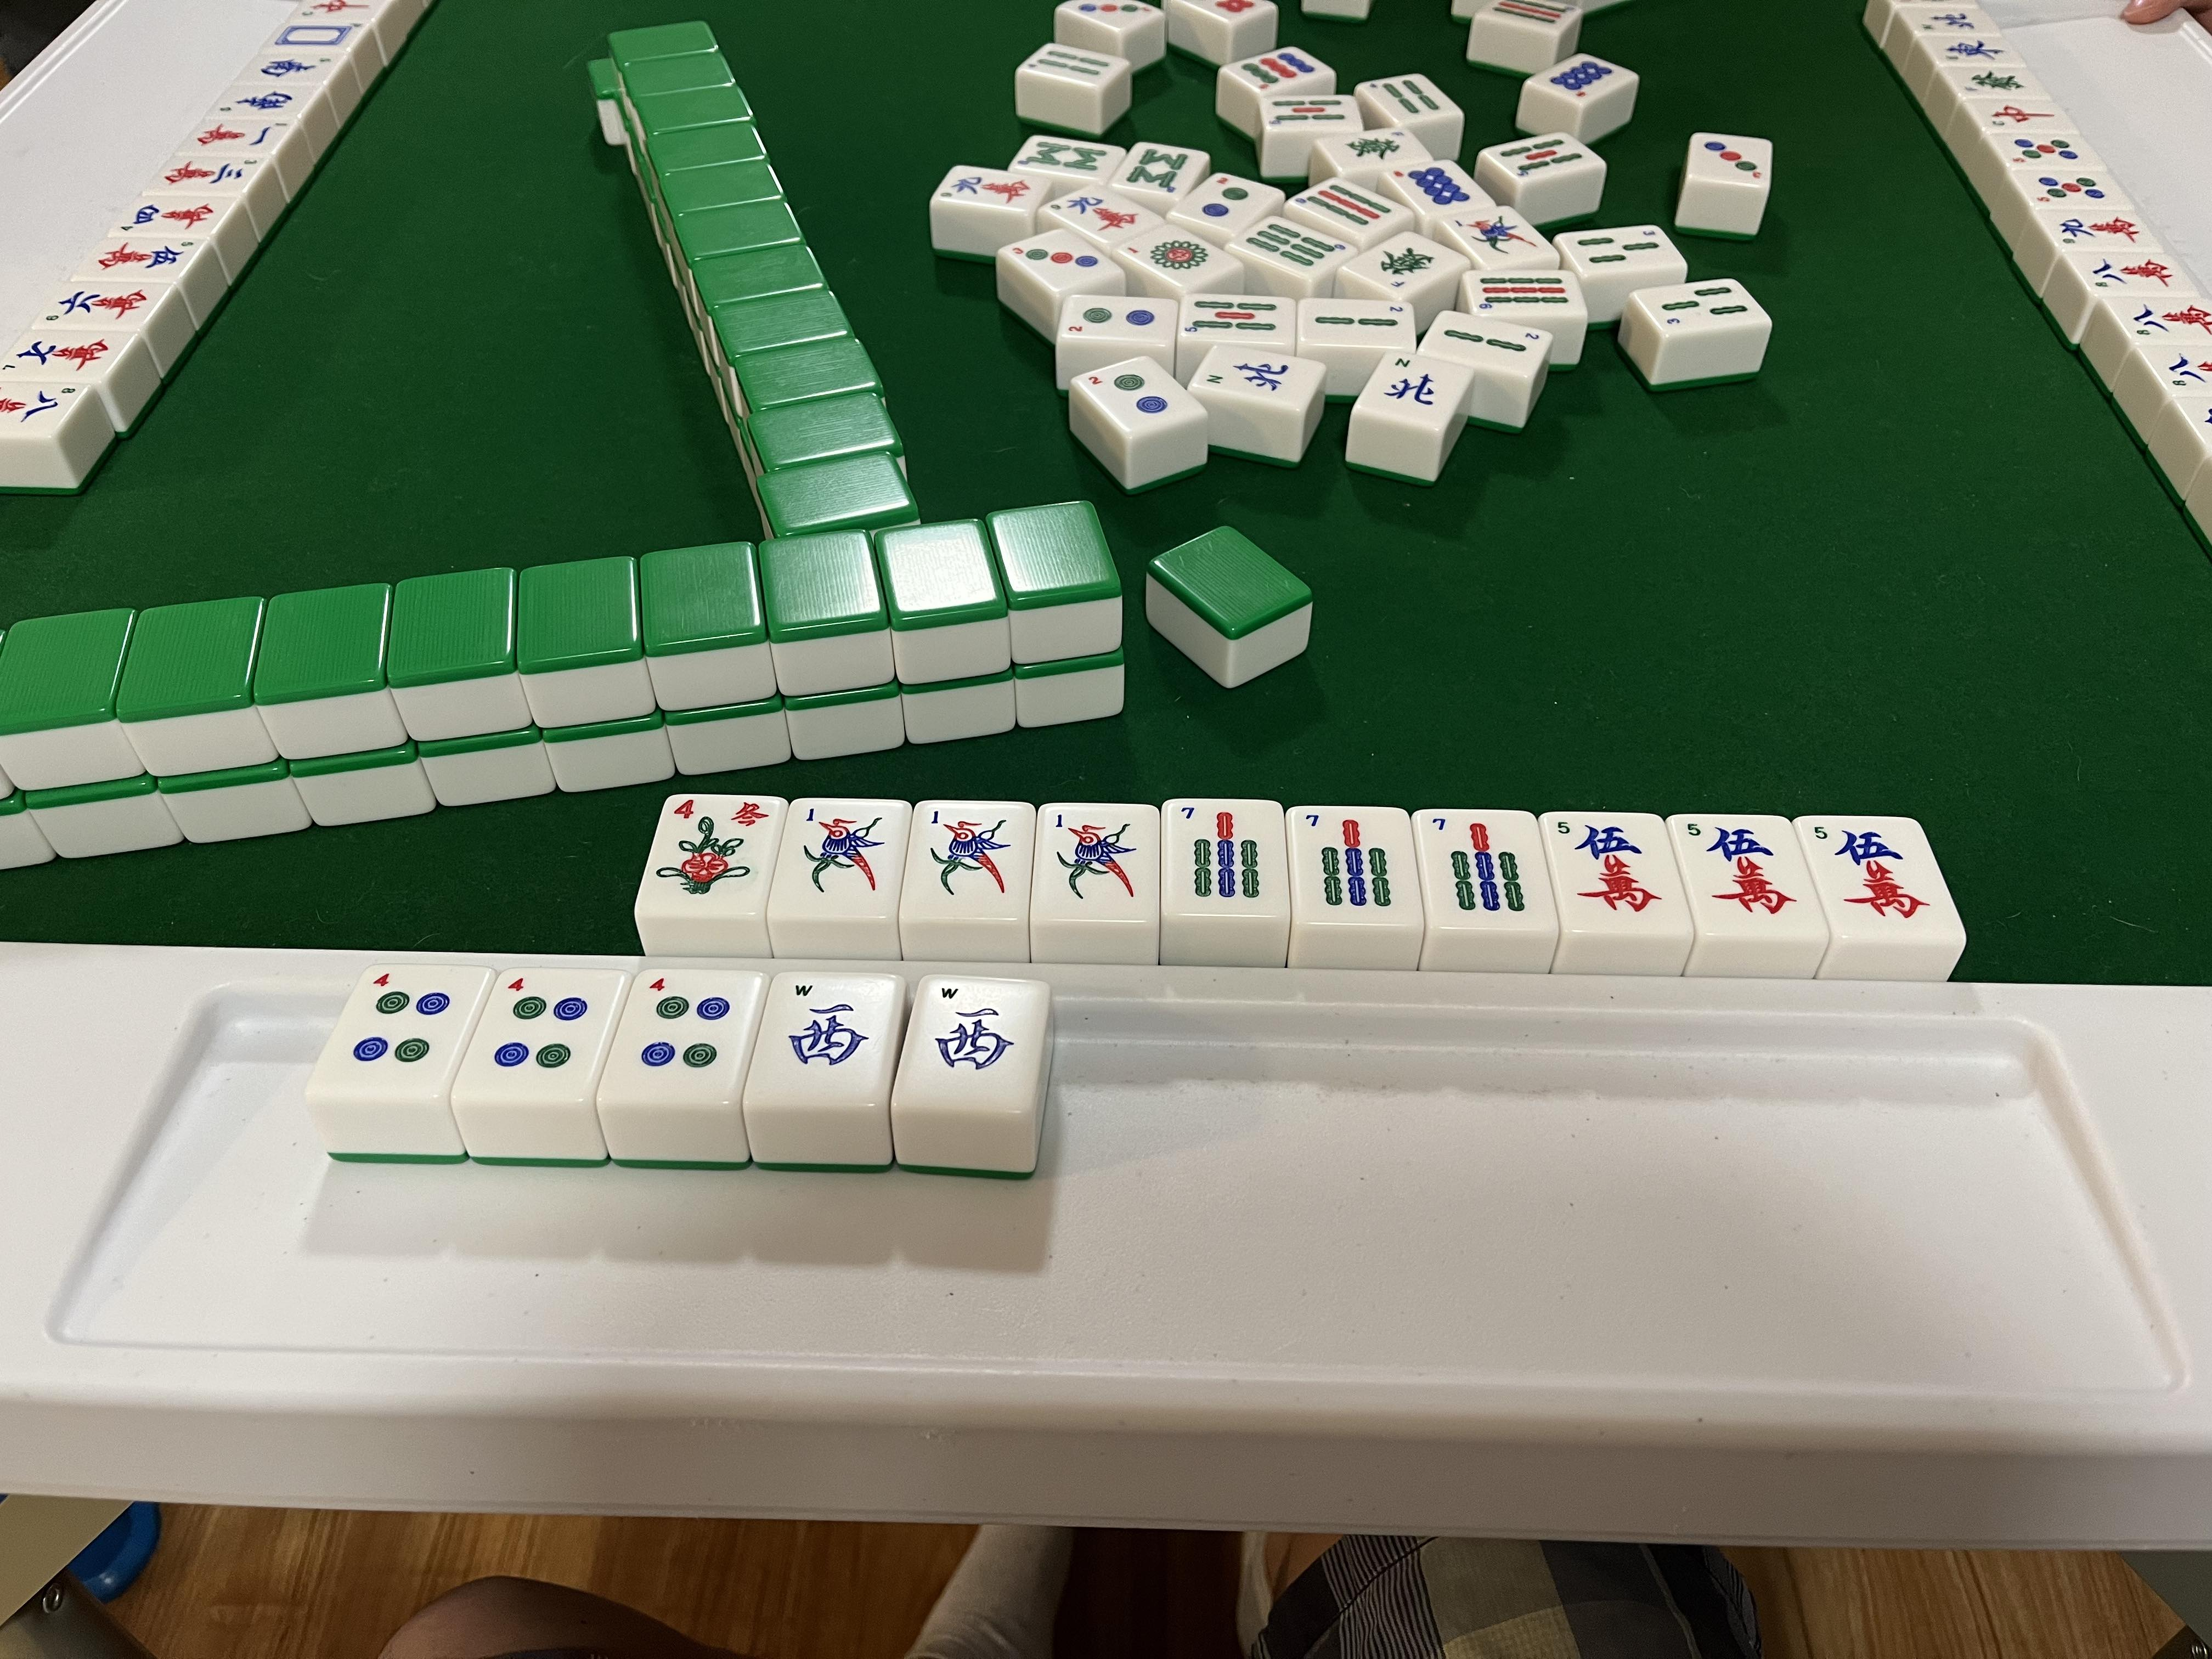bamboo-one: (787, 796, 892, 901), (921, 802, 1022, 904), (1045, 807, 1144, 908)
bamboo-seven: (1423, 809, 1540, 918), (1170, 798, 1275, 913), (1298, 807, 1404, 915)
character-five: (1810, 819, 1940, 931), (1552, 812, 1670, 922), (1686, 814, 1801, 925)
circle-four: (634, 969, 742, 1079), (350, 964, 451, 1073), (491, 969, 590, 1073)
flower-red_four: (651, 793, 768, 903)
honor-west_wind: (925, 979, 1024, 1082), (782, 976, 876, 1073)
